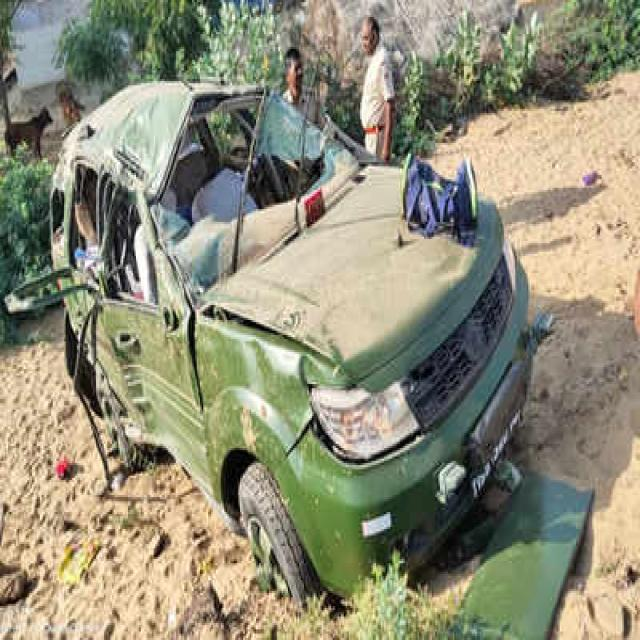accident: (6, 87, 551, 601)
